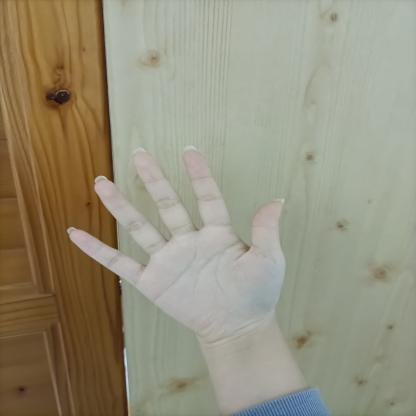bare_hand: (60, 136, 304, 354)
